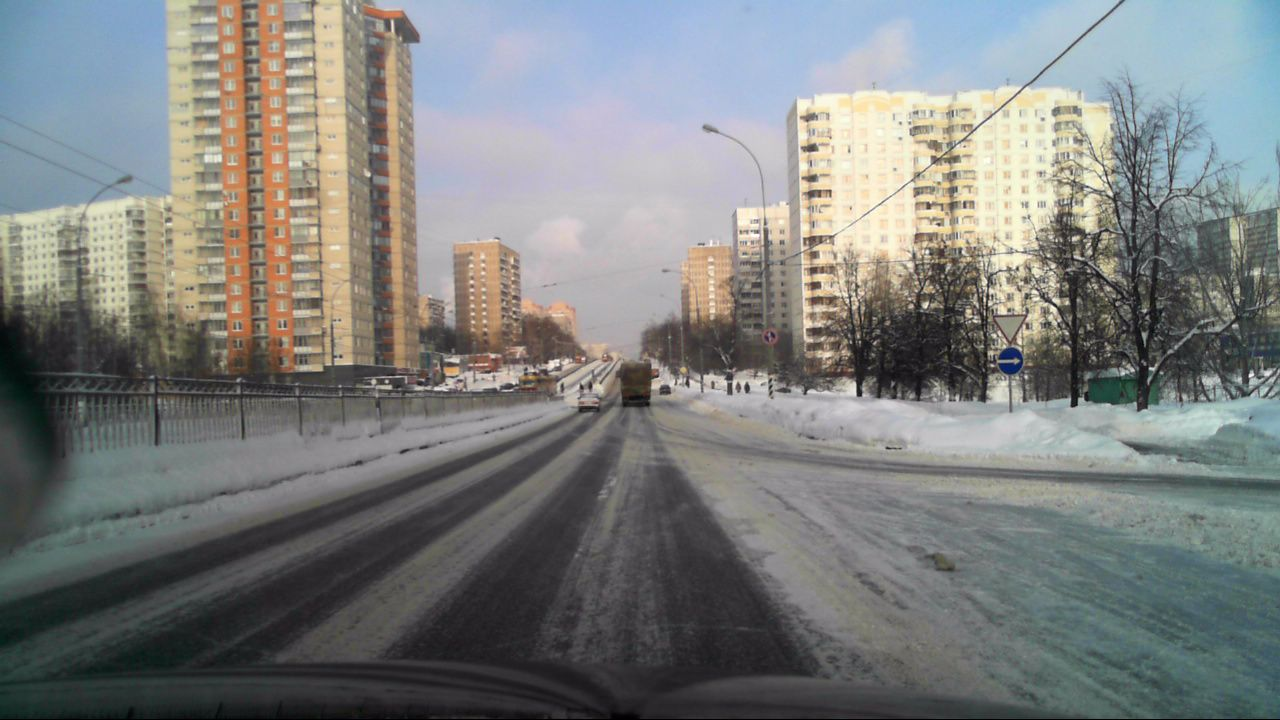Turn Right: (997, 347, 1024, 375)
